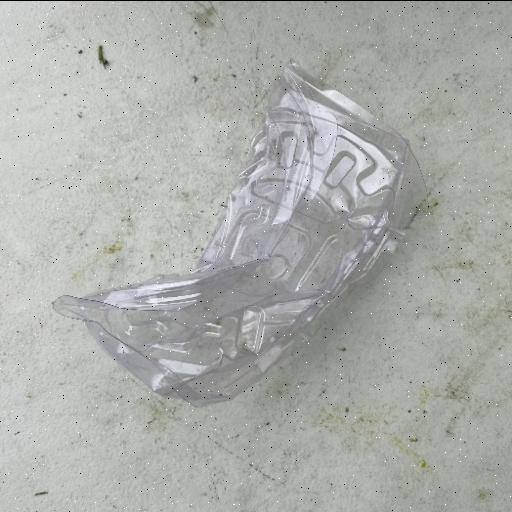Plastic: (50, 60, 430, 410)
